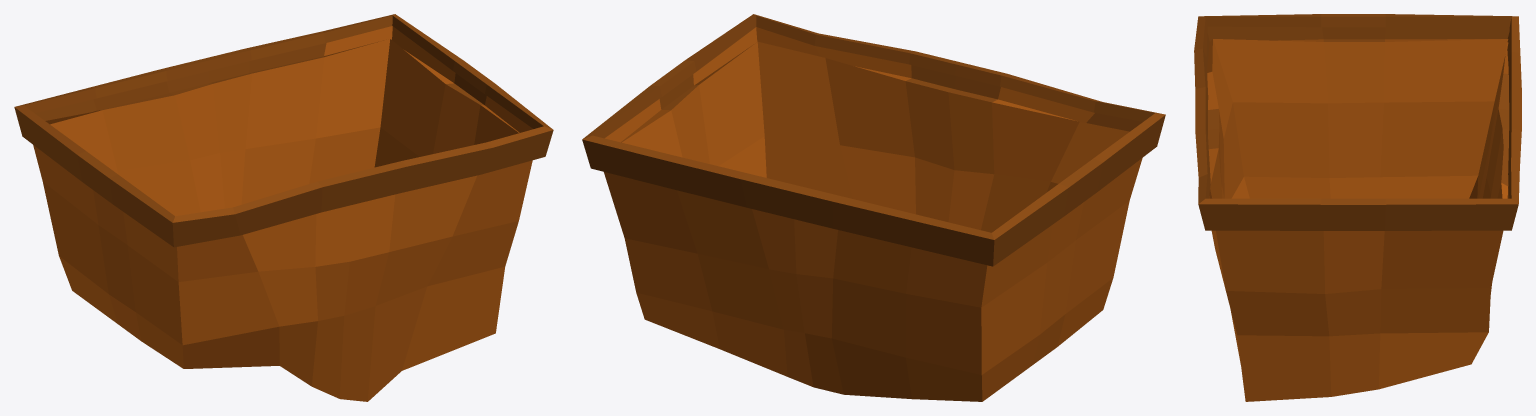
The model's file is Character LeatherBottom.fbx.
The picture shows the model from 3 angles, left to right: view 1: azimuth 30°, elevation 25°; view 2: azimuth 150°, elevation 25°; view 3: azimuth 270°, elevation 25°; orthographic projection. The views are drawn at different scales.
Visible parts, largest first — view 1: LeatherBottom; view 2: LeatherBottom; view 3: LeatherBottom.
Part boxes in pixels (box(x1,y1,x2,y2)): LeatherBottom: box(14, 14, 553, 401); LeatherBottom: box(582, 14, 1165, 401); LeatherBottom: box(1194, 14, 1521, 401).
Bounding box in the file's own units: 126 × 78.37 × 91.31.
